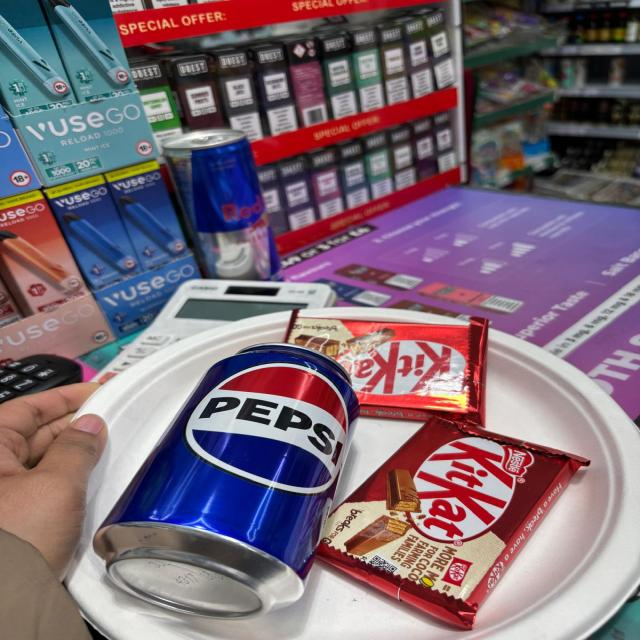kitkat: (336, 406, 603, 630), (291, 296, 501, 428)
pepsi: (101, 344, 347, 612)
